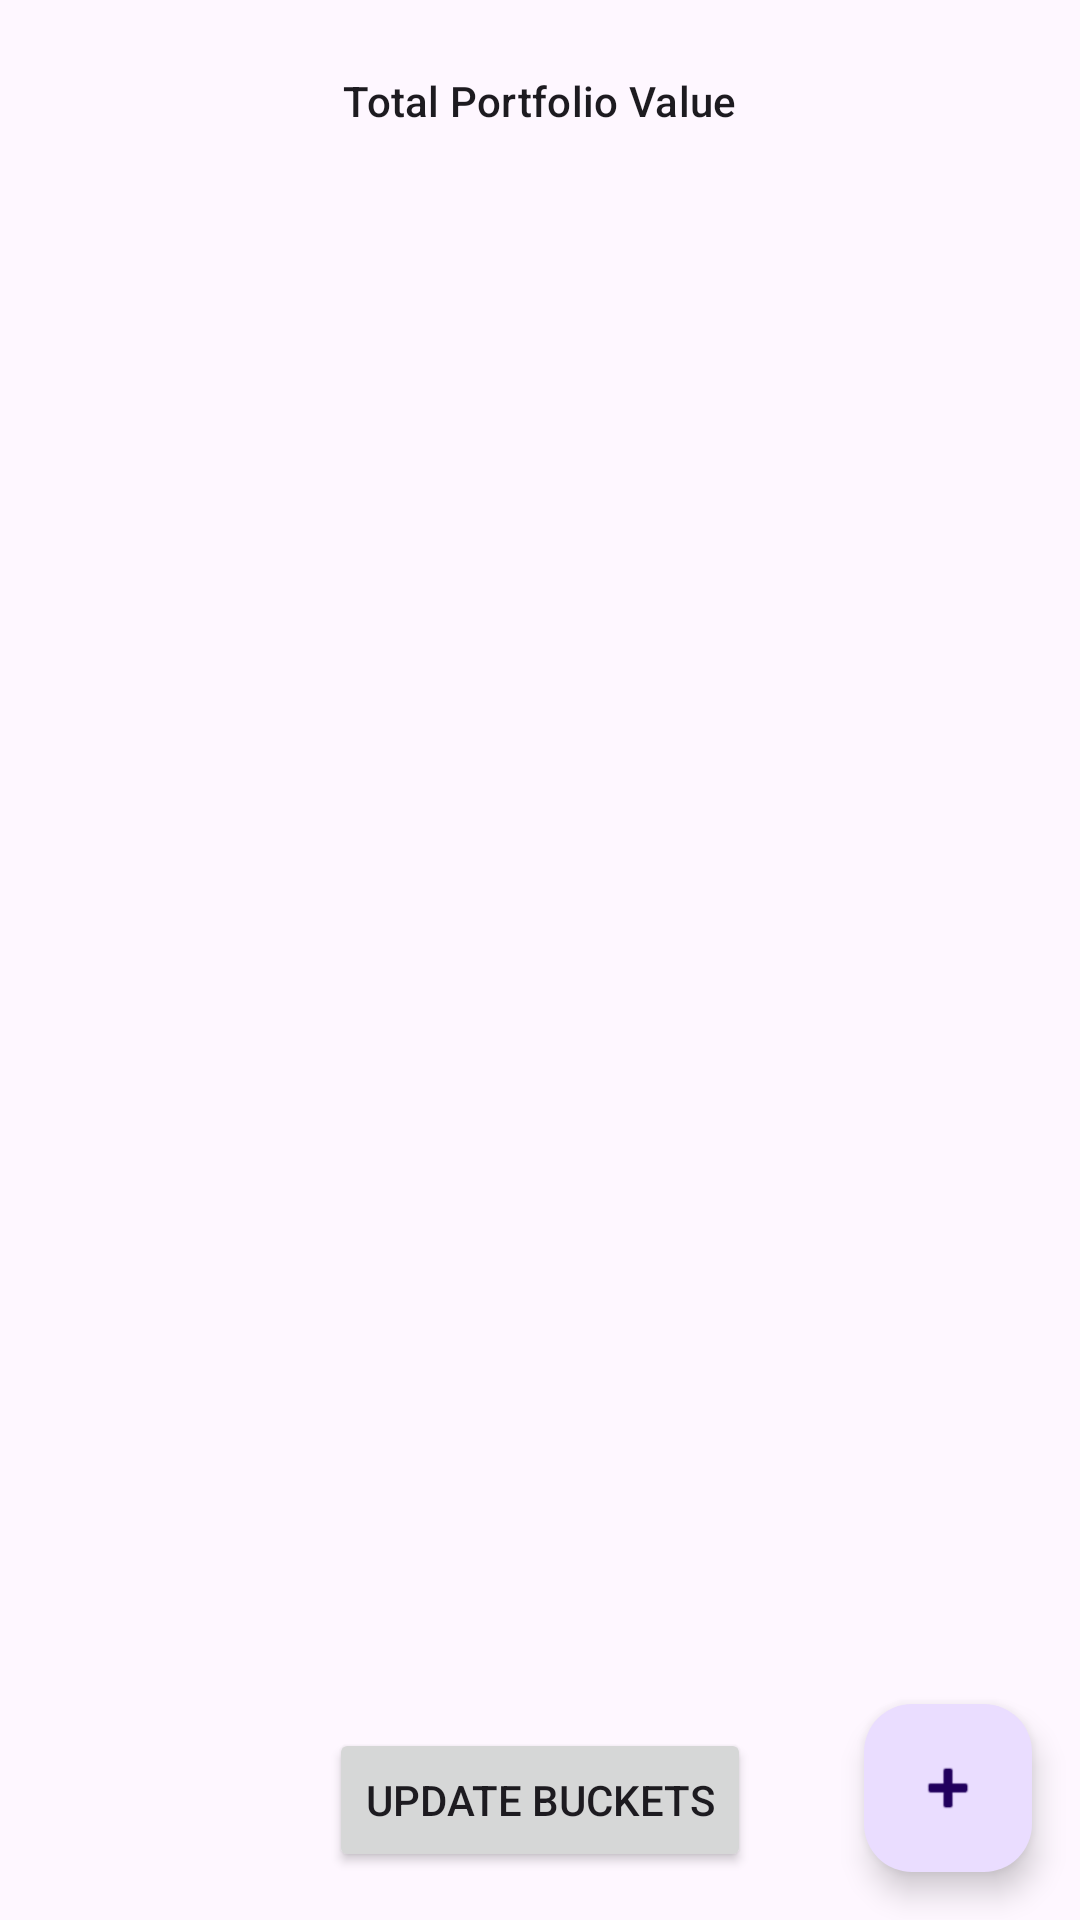

Named icons in this screenshot (1080 x 1920) and their bounding boxes, BBox(x1, y1, x2, y2):
Add Stock: BBox(864, 1704, 1032, 1872)
